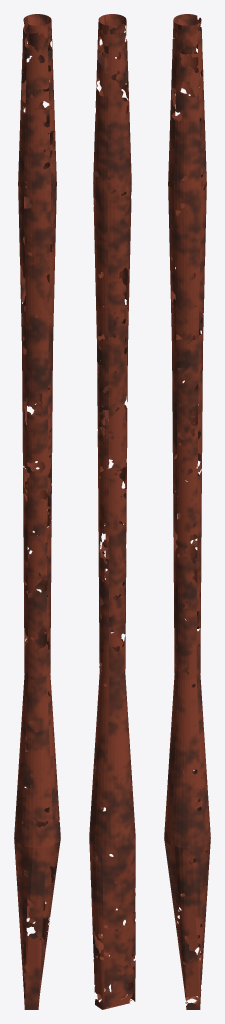
The model's file is Model_Flute.fbx.
3 renders of one model, left to right at view 1: azimuth 90°, elevation 25°; view 2: azimuth 210°, elevation 25°; view 3: azimuth 270°, elevation 25°, orthographic.
Visible parts, largest first — view 1: Cylinder; view 2: Cylinder; view 3: Cylinder.
Boxes of the visible parts, x1,y1,x2,y2 form: Cylinder: (14,14,60,1009); Cylinder: (89,14,135,1009); Cylinder: (164,14,210,1009).
Size of the model in its own units: 25.61 by 594 by 25.61.
